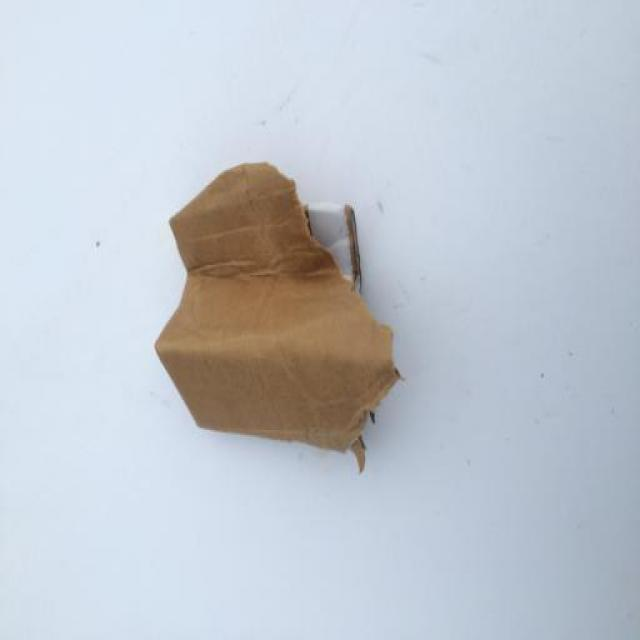cardboard: (154, 134, 423, 496)
